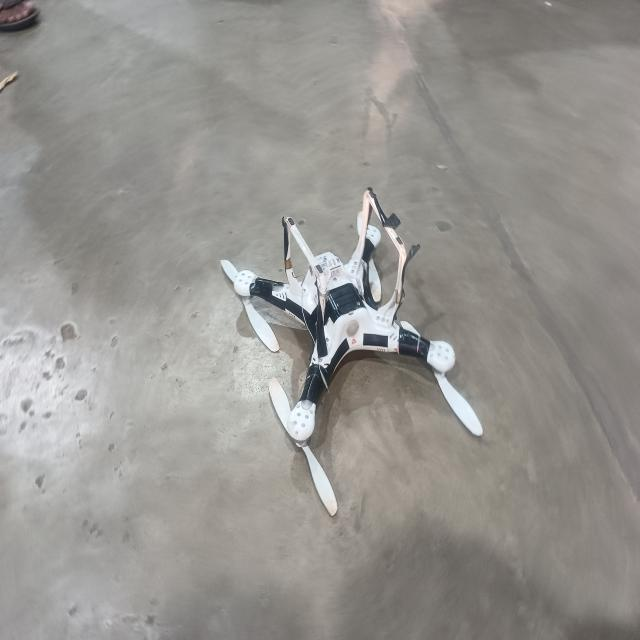drone: (231, 178, 459, 429)
